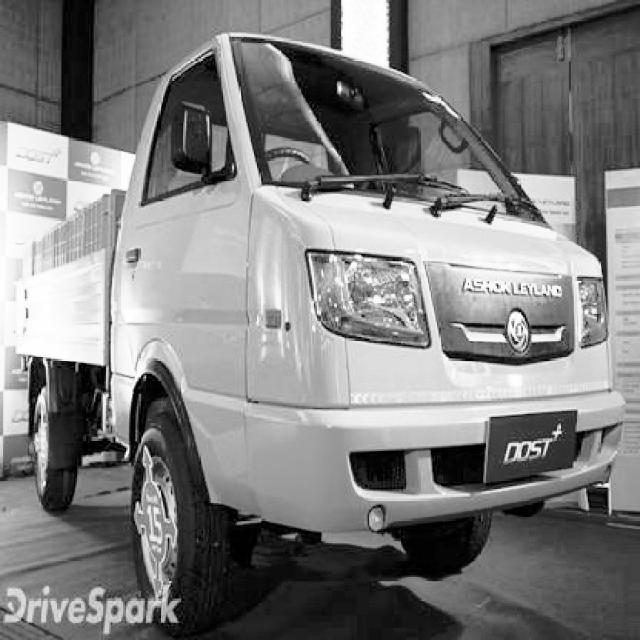LCV: (12, 36, 590, 604)
